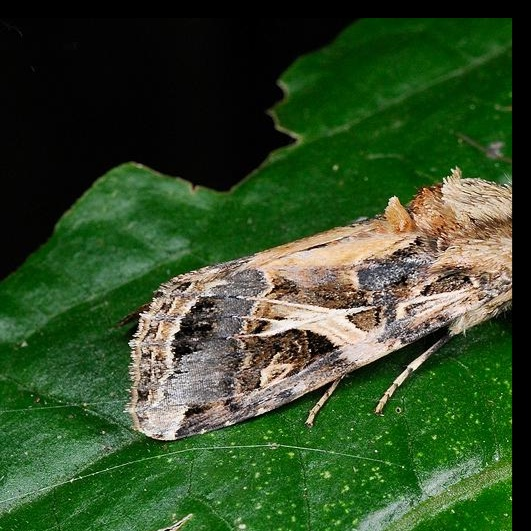Spodoptera litura: (117, 131, 511, 441)
